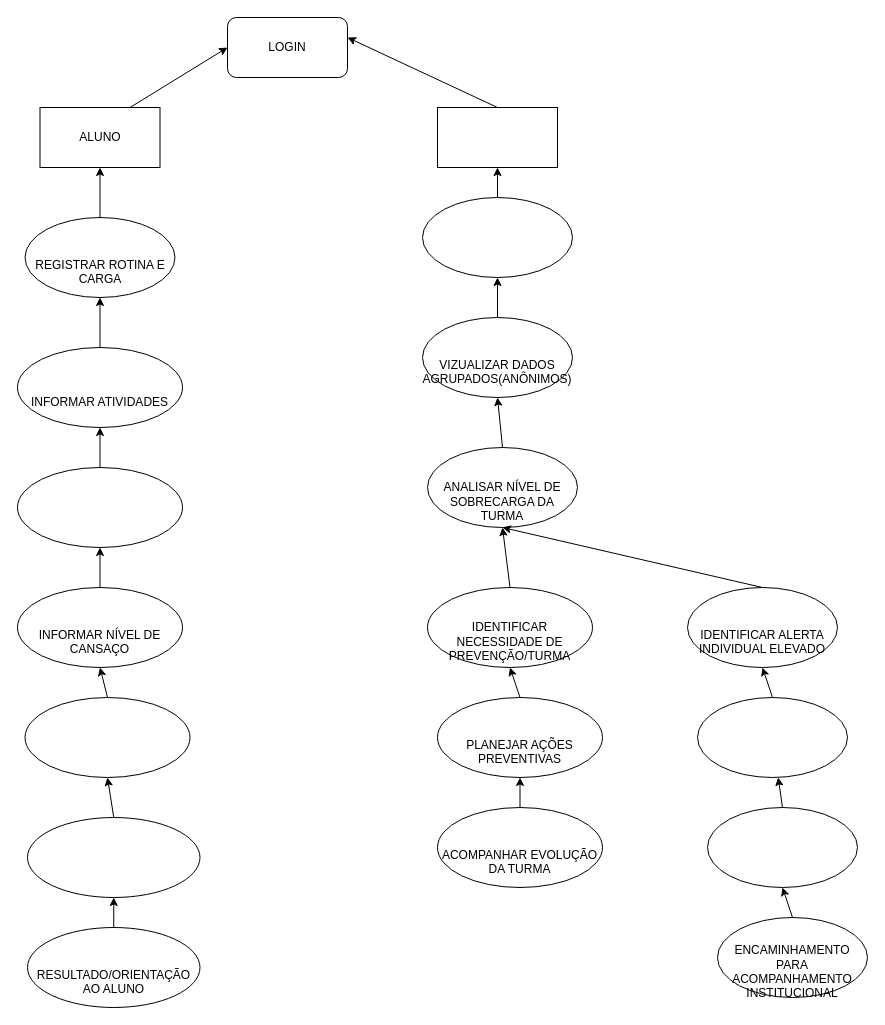
The diagram is 885 pixels wide and 1025 high, and some of its shapes have lost their labels. The centre of each missing label's shape, as x and y in pixels:
"ACESSAR PAINEL DA TURMA" goes at (x=497, y=237).
"ACESSO RESTRITO Á IDENTIFICAÇÃO DO ESTUDANTE" goes at (x=782, y=847).
"FUNCIONÁRIO" goes at (x=497, y=137).
"IDENTIFICA PERÍODOS DE SOBRECARGA" goes at (x=113, y=857).
"INFORMAR HORAS DE ESTUDO E DESCANÇO" goes at (x=99, y=507).
"SISTEMA ANALISA OS DADOS" goes at (x=107, y=737).
"VERIFICAR NECESSIDADE DE INTERVENÇÃO" goes at (x=772, y=737).
